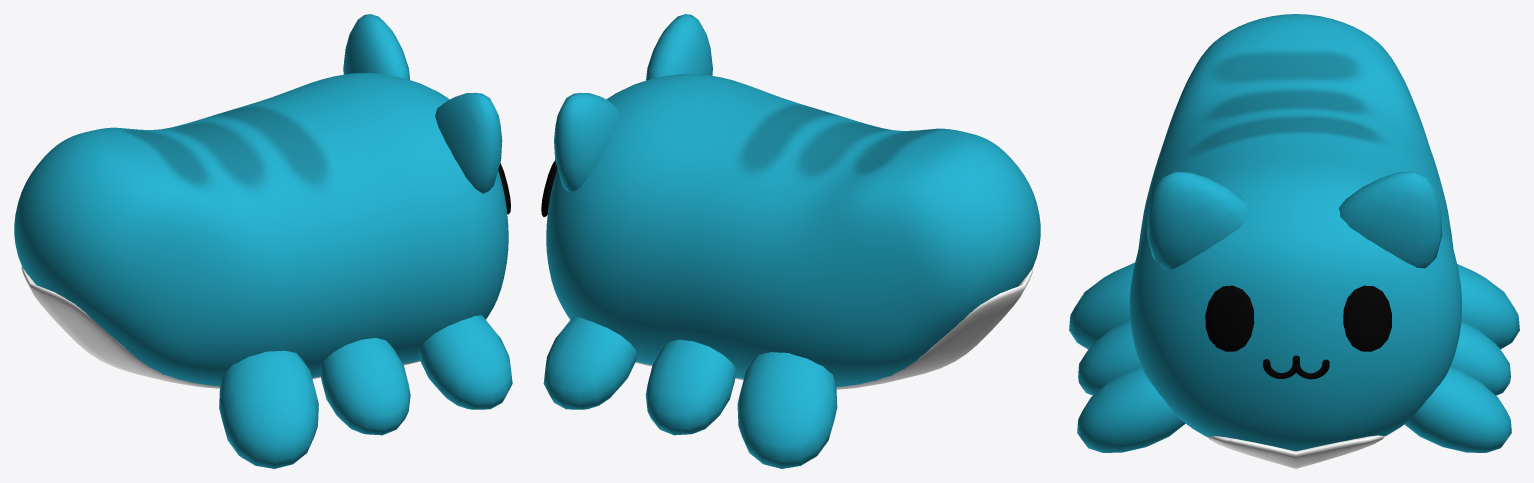
File: capoo.glb
3 views of the same model, side by side, from view 1: azimuth 30°, elevation 25°; view 2: azimuth 150°, elevation 25°; view 3: azimuth 270°, elevation 25° (orthographic). The views are drawn at different scales.
Parts seen in each view (by area): view 1: Cube, Cube.004, Cube.001, Cube.005, Cube.006, Cube.007; view 2: Cube, Cube.004, Cube.001, Cube.005, Cube.006, Cube.007; view 3: Cube, Cube.001, Cube.006, Cube.004, Cube.005, Cube.002, Cube.007, Cube.003.
Part boxes in pixels (<box>): Cube: <box>14,73,508,385</box>; Cube.004: <box>219,350,318,468</box>; Cube.001: <box>343,14,502,193</box>; Cube.005: <box>320,338,410,435</box>; Cube.006: <box>419,315,512,409</box>; Cube.007: <box>21,267,419,388</box>; Cube: <box>546,73,1040,386</box>; Cube.004: <box>737,352,837,468</box>; Cube.001: <box>554,14,712,192</box>; Cube.005: <box>645,339,736,435</box>; Cube.006: <box>543,316,636,409</box>; Cube.007: <box>635,268,1033,389</box>; Cube: <box>1129,14,1461,451</box>; Cube.001: <box>1147,171,1442,269</box>; Cube.006: <box>1077,366,1511,452</box>; Cube.004: <box>1069,262,1519,349</box>; Cube.005: <box>1078,319,1510,395</box>; Cube.002: <box>1205,285,1391,351</box>; Cube.007: <box>1207,435,1384,468</box>; Cube.003: <box>1263,355,1329,379</box>.
Size of the model in its own units: 2.88 by 1.77 by 2.34.
Materials: 1 (1 with a texture image).
